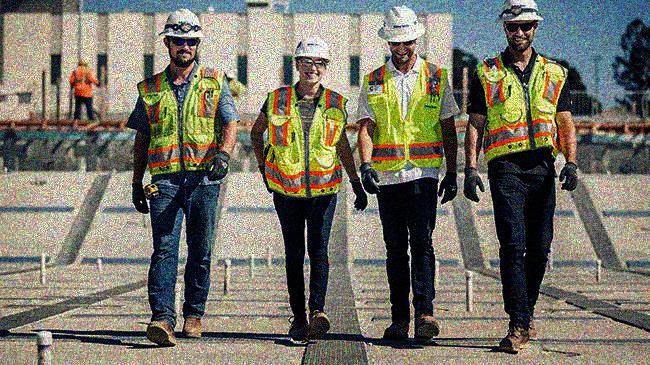helmet: (377, 2, 426, 63), (158, 7, 205, 64), (493, 1, 544, 51), (293, 35, 332, 86), (77, 55, 88, 66)
